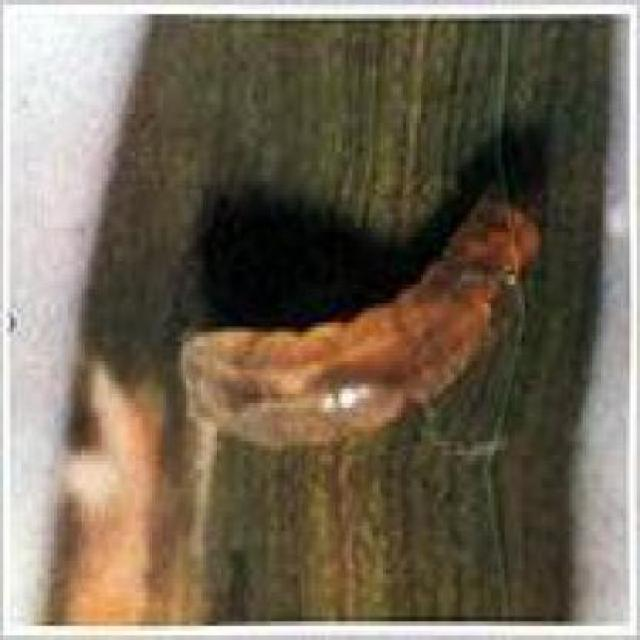whorl-maggot: (181, 190, 551, 458)
